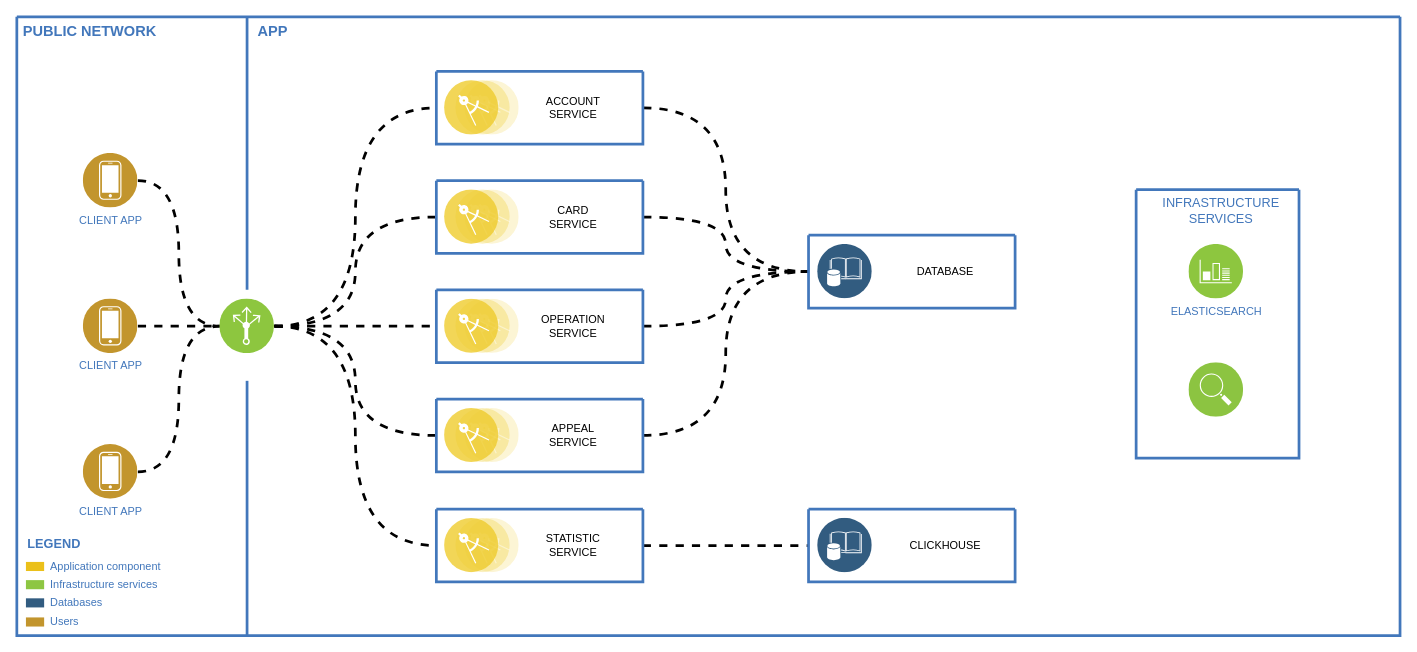
Image size: 1417x652. Some labels were removed from this diagram. Here are the shapes that lost their labels. From the top down, the box of each, then its label:
(219, 298, 274, 353): API GATEWAY
(1188, 362, 1243, 417): GRAFFANA
